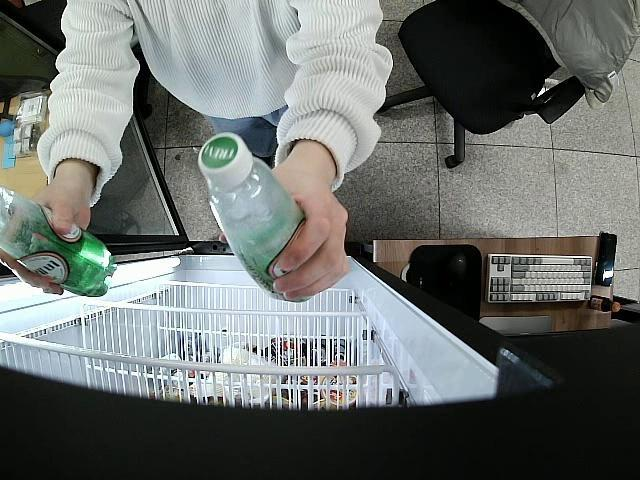18_trevi: (197, 133, 314, 302), (0, 180, 118, 296)
